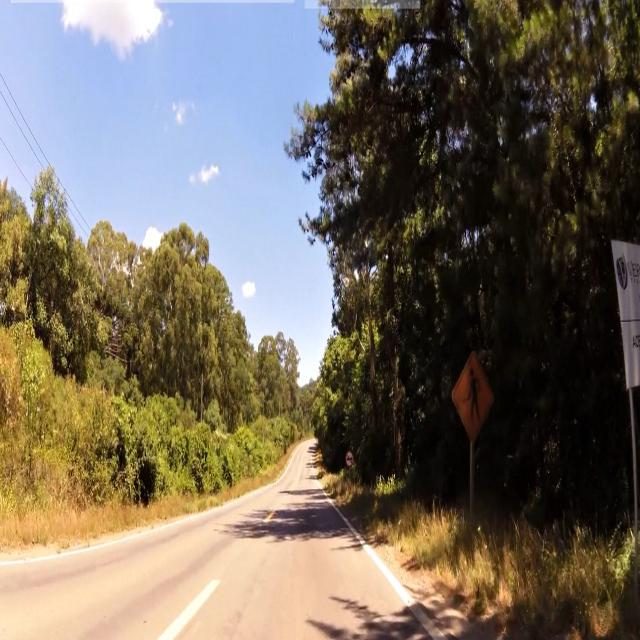A-24: (452, 356, 494, 435)
